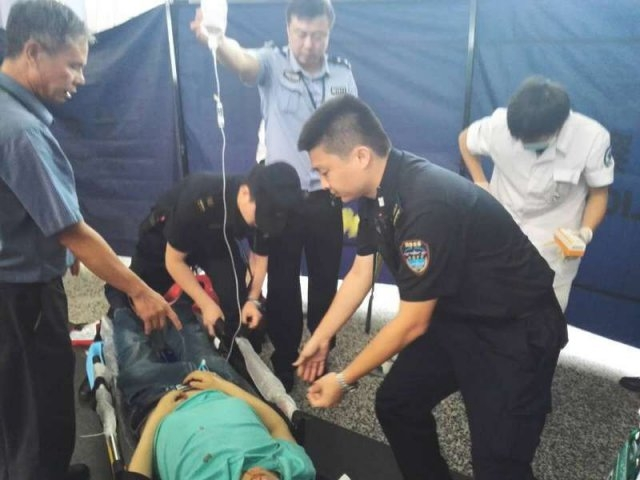fall: (83, 263, 349, 480)
